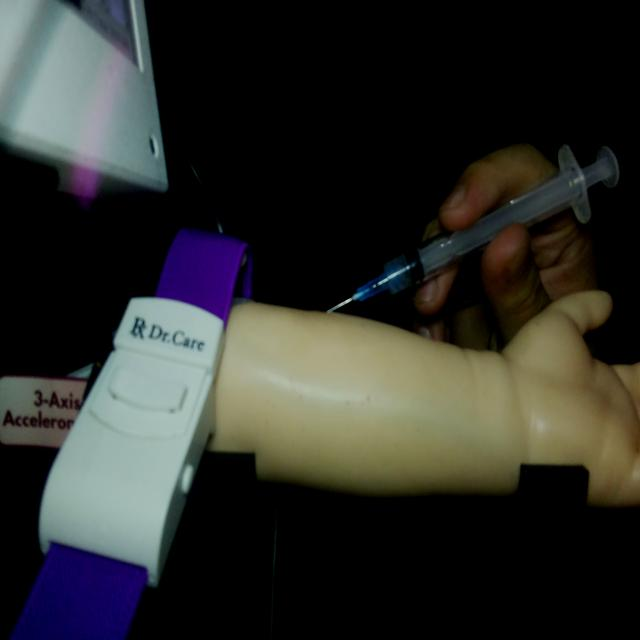19 degrees: (325, 139, 621, 316)
